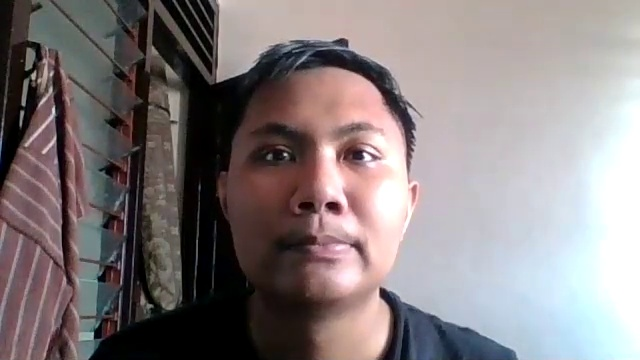Not Distracted: (220, 79, 420, 300)
